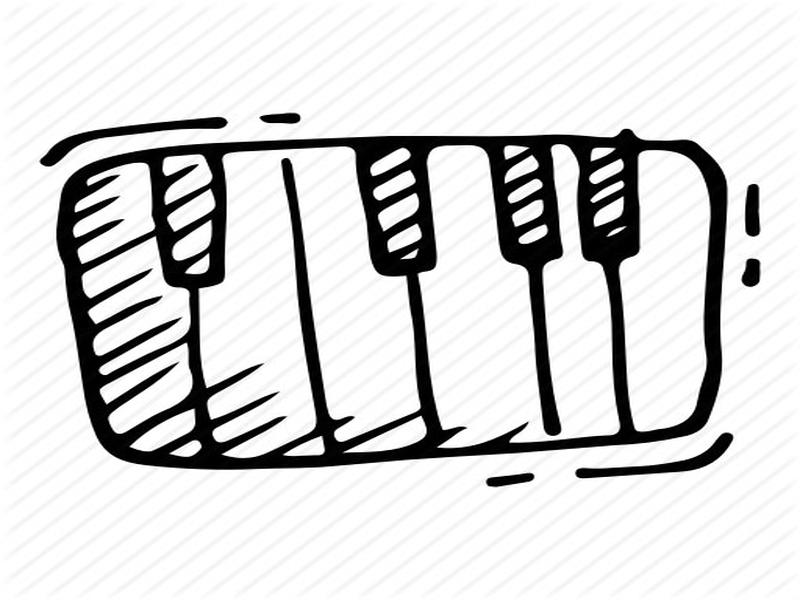piano: (55, 132, 723, 465)
